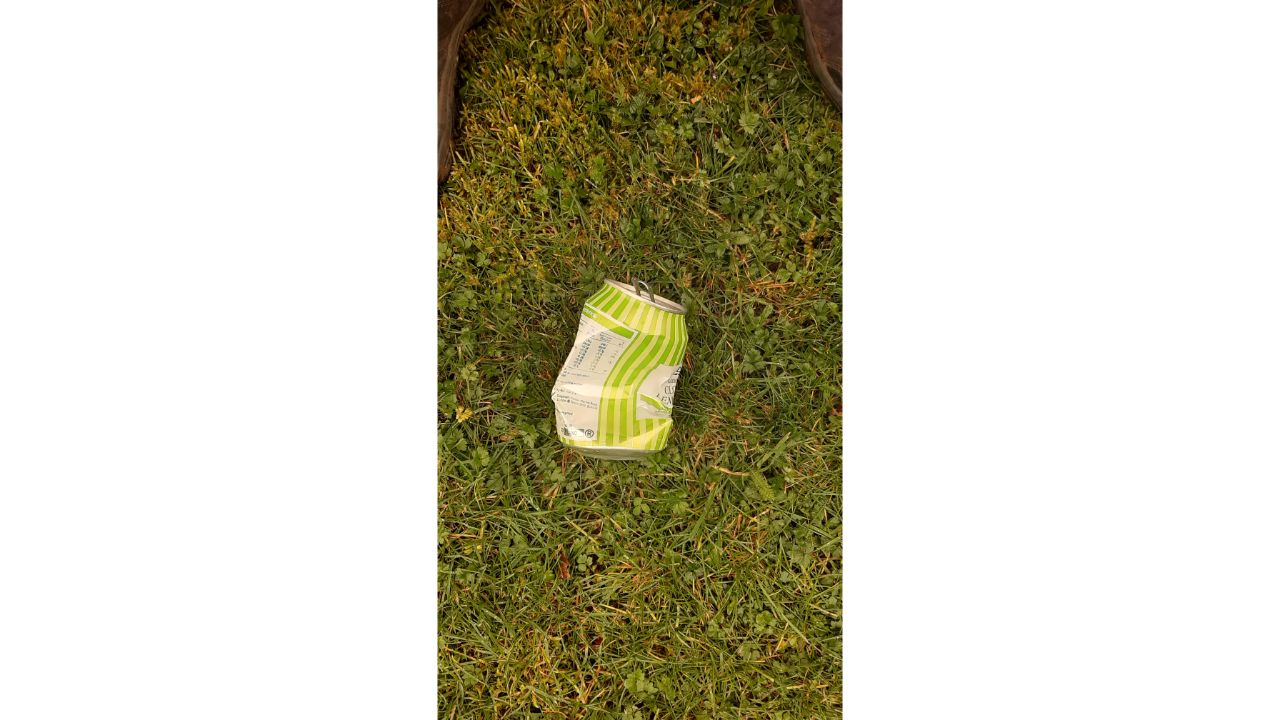Can: (552, 277, 689, 464)
